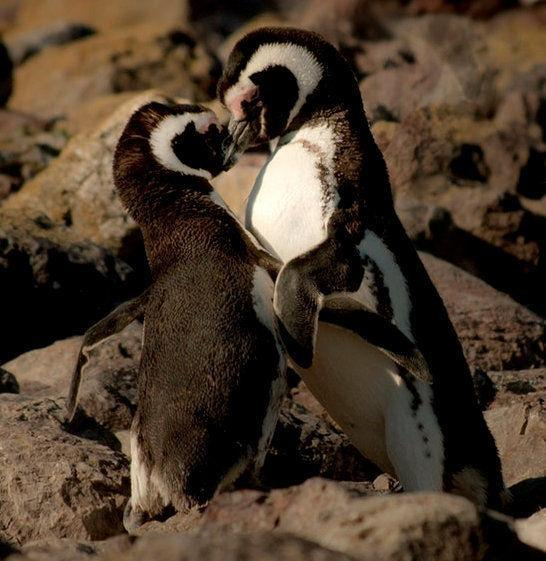Penguin: (218, 27, 503, 505), (69, 101, 284, 528)
